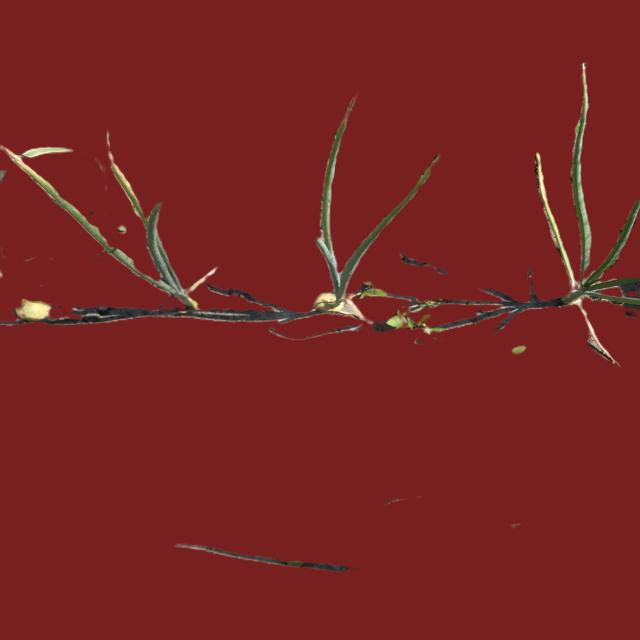Onion: (46, 142, 203, 311), (311, 110, 418, 312), (555, 118, 640, 315)
